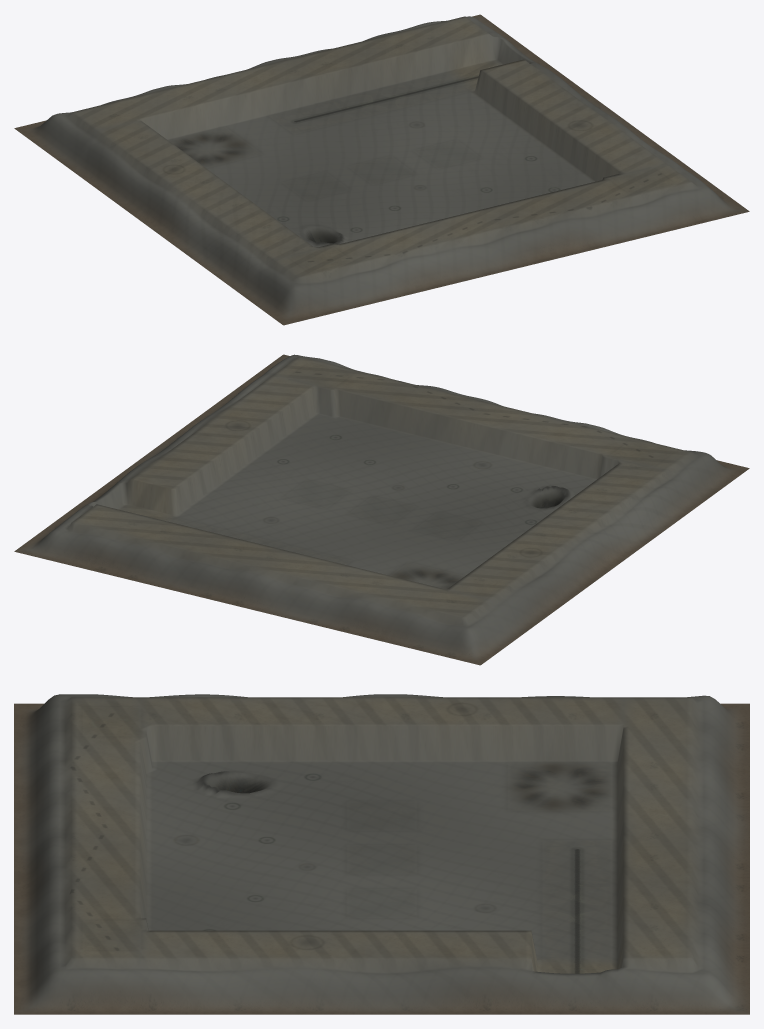
File: mare-claim-terrain.glb
3 views of the same model, one above another, from view 1: azimuth 30°, elevation 25°; view 2: azimuth 150°, elevation 25°; view 3: azimuth 270°, elevation 25° (orthographic). The views are drawn at different scales.
Parts seen in each view (by area): view 1: MareClaimTerrain; view 2: MareClaimTerrain; view 3: MareClaimTerrain.
Boxes of the visible parts, left/top/right/bottom form: MareClaimTerrain: left=14, top=14, right=749, bottom=325; MareClaimTerrain: left=14, top=354, right=749, bottom=665; MareClaimTerrain: left=14, top=694, right=749, bottom=1014.
Size of the model in its own units: 128 by 9.11 by 128.
Materials: 1 (1 with a texture image).
